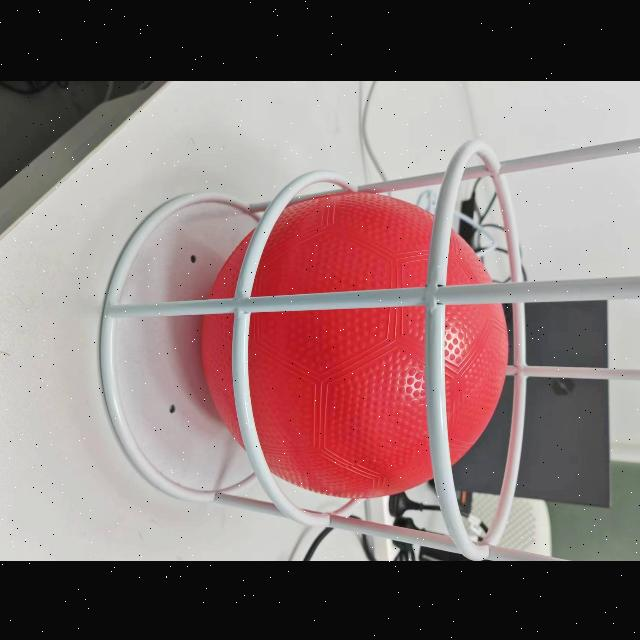R: (198, 180, 516, 504)
S: (105, 120, 640, 560)
